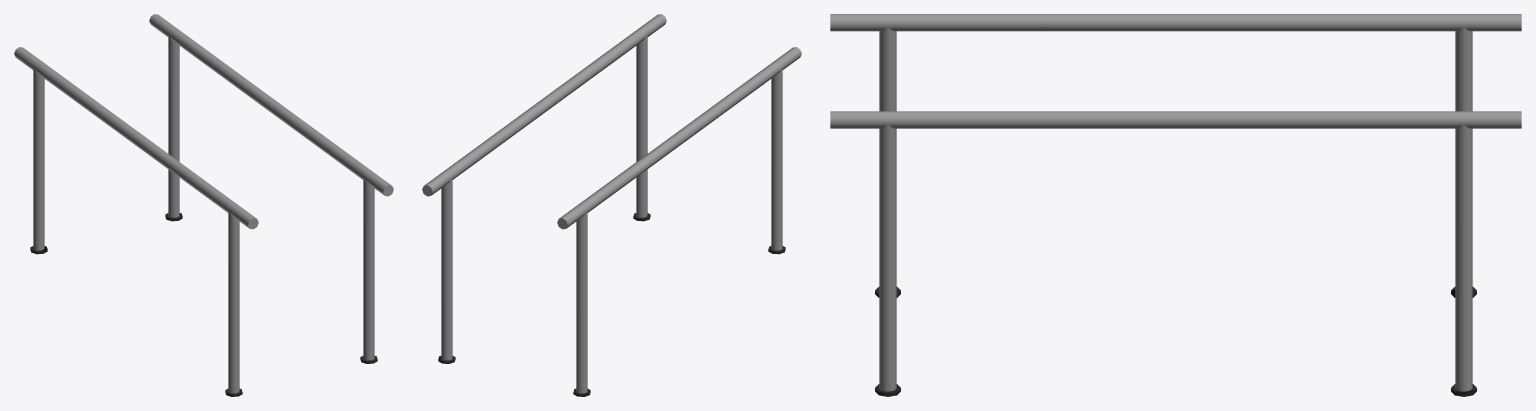
File: dip-station.glb
The picture shows the model from 3 angles, left to right: view 1: azimuth 30°, elevation 25°; view 2: azimuth 150°, elevation 25°; view 3: azimuth 270°, elevation 25°; orthographic projection. The views are drawn at different scales.
Visible parts, largest first — view 1: parallel_bars_1_gym_environment_0; view 2: parallel_bars_1_gym_environment_0; view 3: parallel_bars_1_gym_environment_0.
Boxes of the visible parts, x1,y1,x2,y2 form: parallel_bars_1_gym_environment_0: (14, 14, 393, 396); parallel_bars_1_gym_environment_0: (422, 14, 801, 396); parallel_bars_1_gym_environment_0: (830, 14, 1521, 396).
Bounding box in the file's own units: 1.11 × 1.34 × 3.
1 material, 1 textured.
